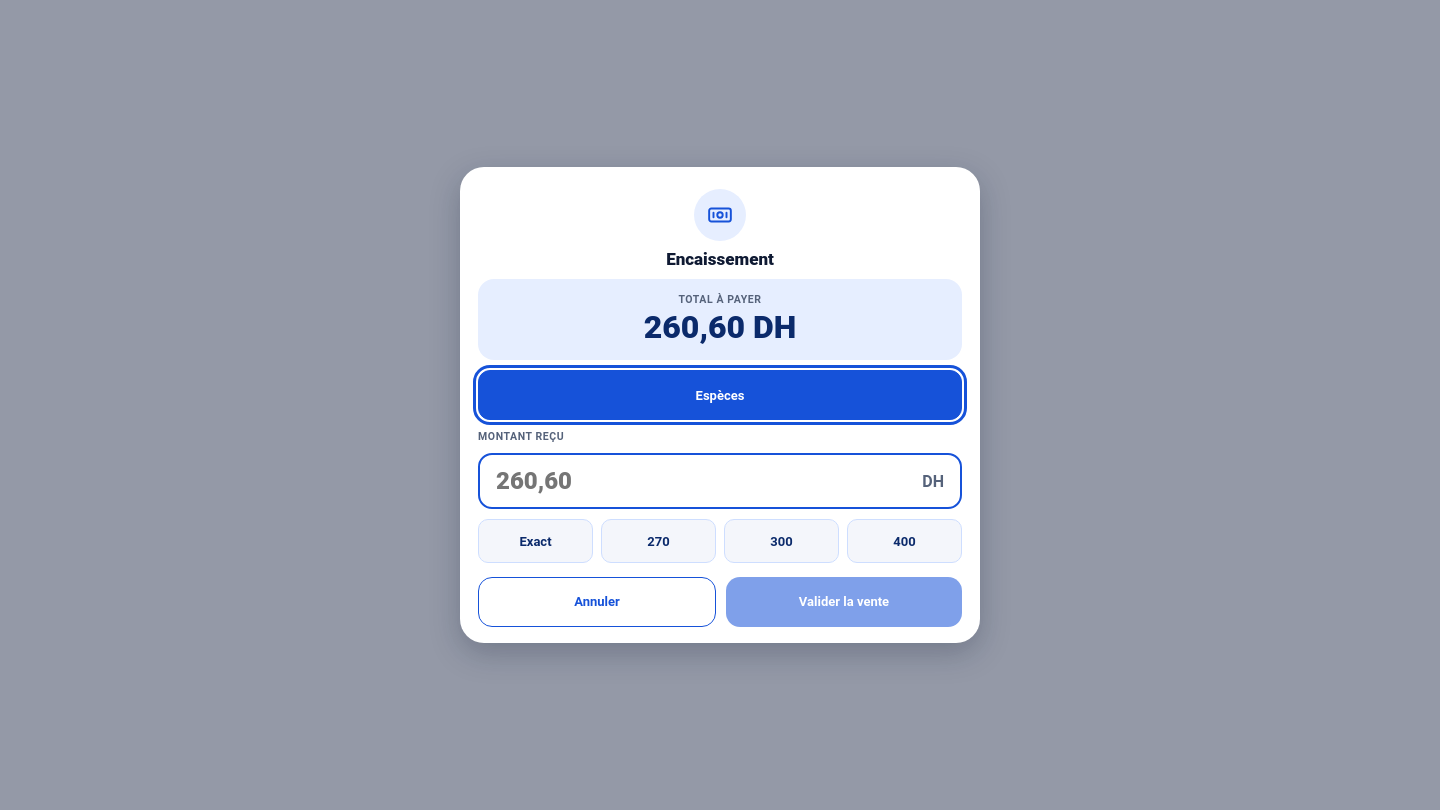
Test: EncaissementDialogue › affiche le rendu ou le manque
The image size is (1440, 810).
In the field labelled "Montant reçu": {"x": 709, "y": 481} [496,467,922,495], type "250"
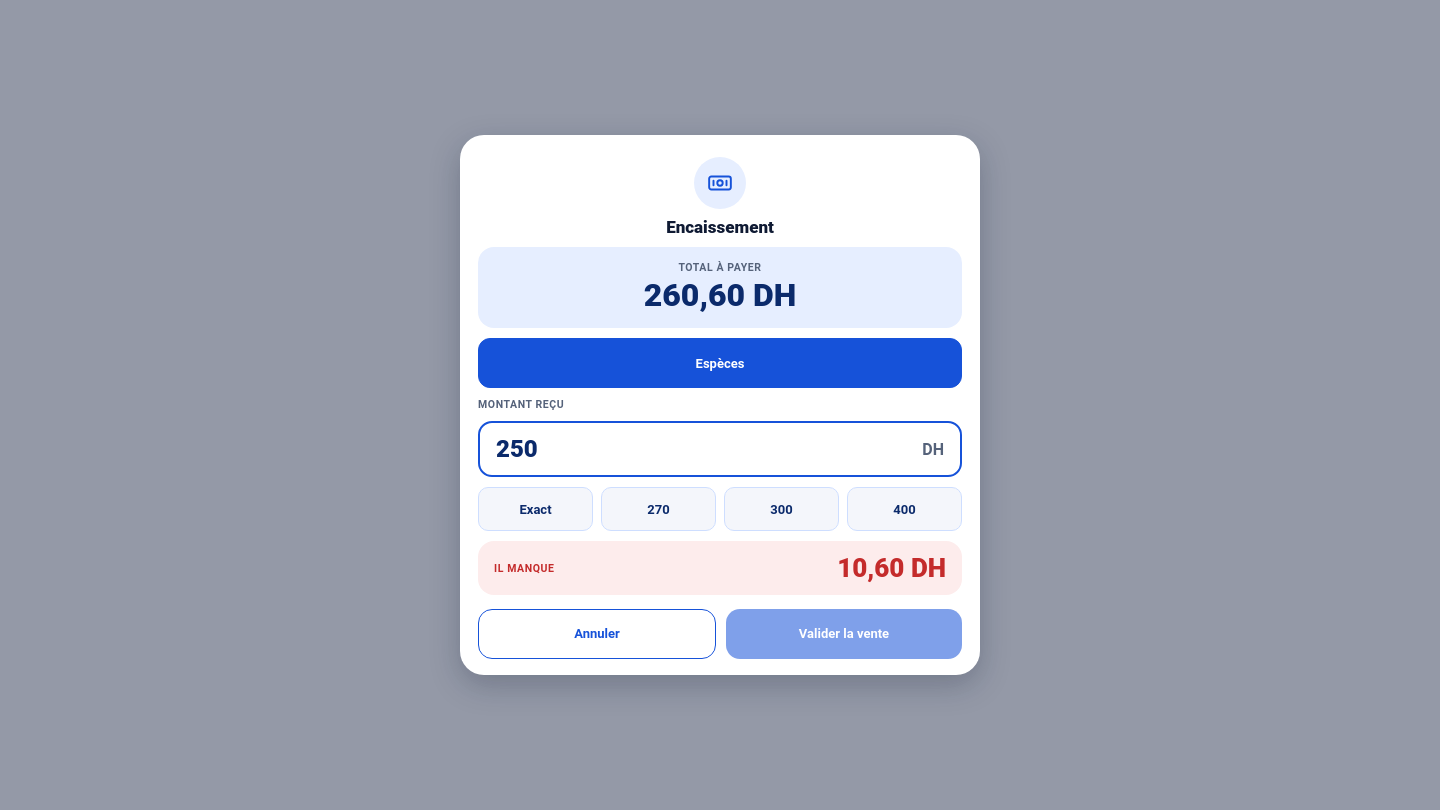
Expected: the button "Valider la vente" is disabled, [726,609,962,659]
Now the text "10,60 DH" is shown, box [837,553,946,583]
Click the button "300": {"x": 782, "y": 509} [724,487,839,531]
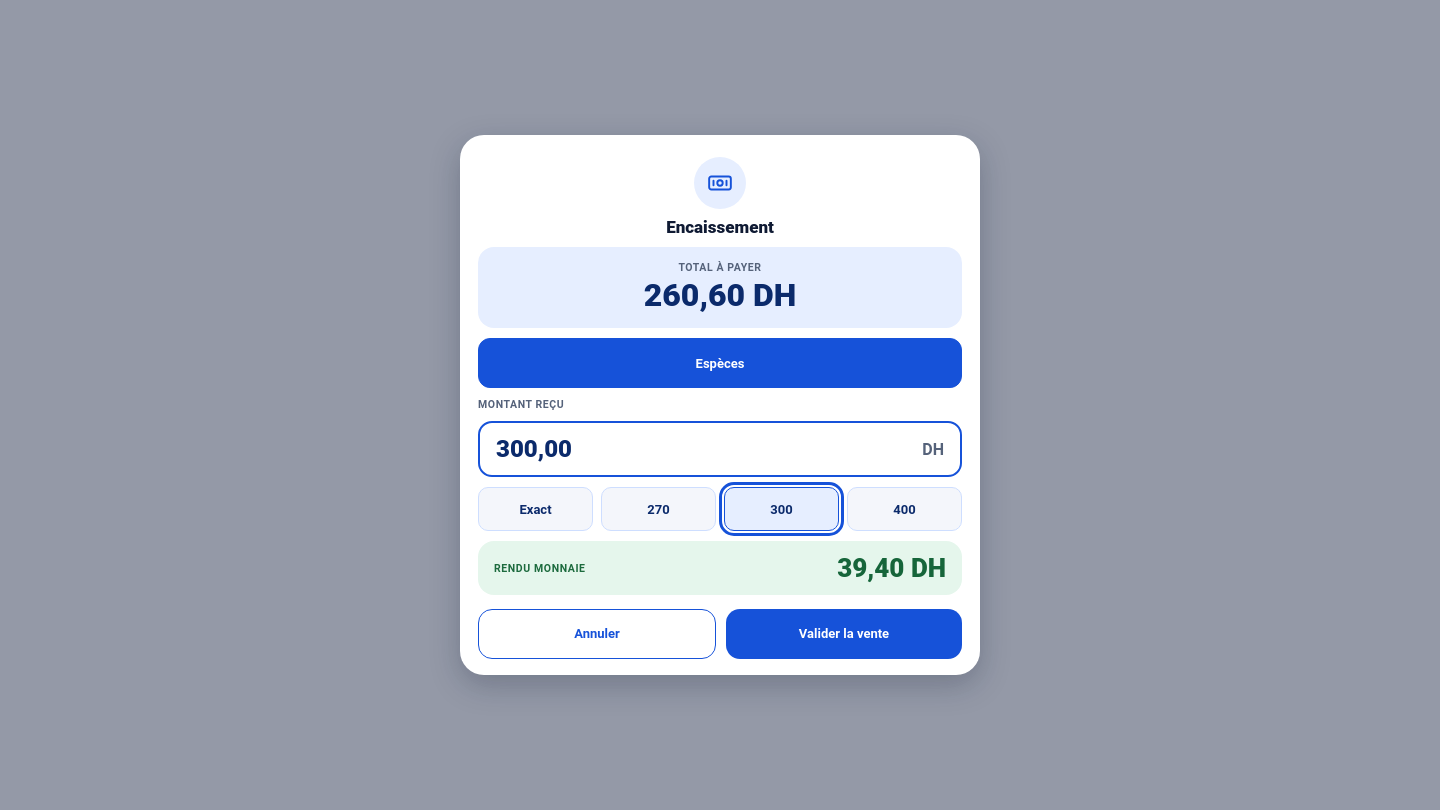
Now the text "39,40 DH" is shown, box [837,553,946,583]
